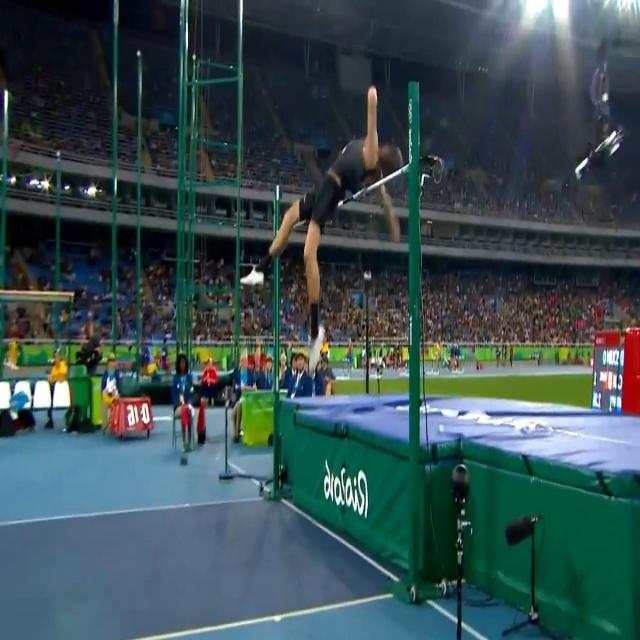jump: (237, 83, 403, 377)
